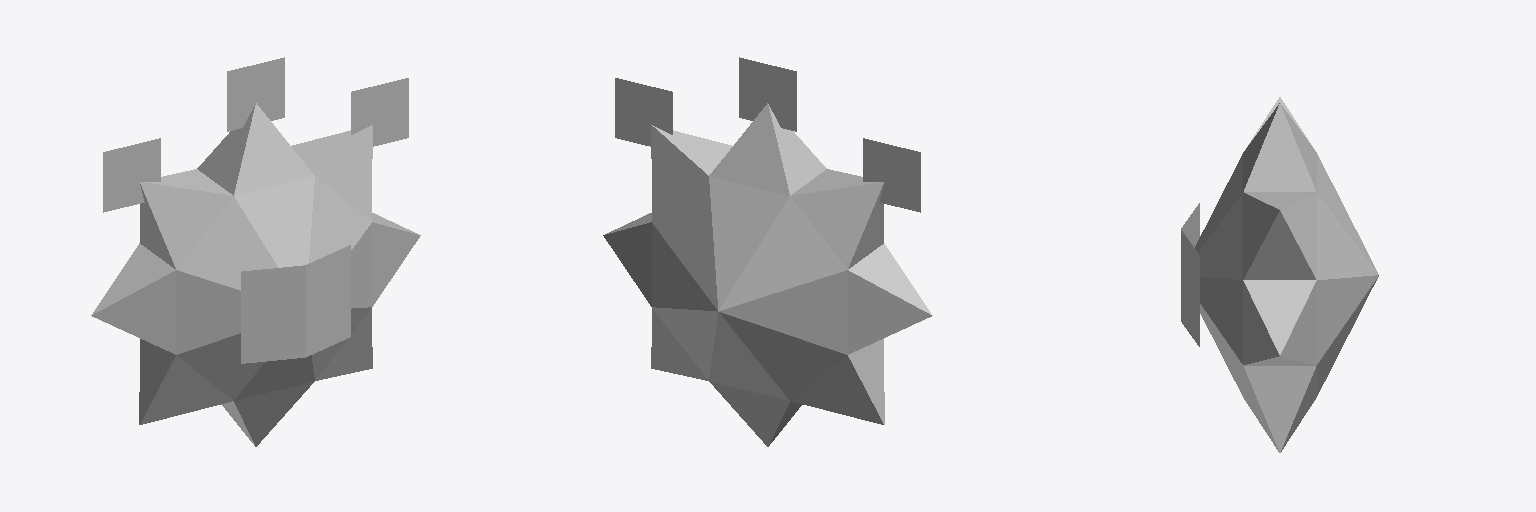
Rendered from Shrine Sprite 64st.obj.
3 views of the same model, side by side, from view 1: azimuth 30°, elevation 25°; view 2: azimuth 150°, elevation 25°; view 3: azimuth 270°, elevation 25° (orthographic).
Parts seen in each view (by area): view 1: Shine_Sprite_Plane; view 2: Shine_Sprite_Plane; view 3: Shine_Sprite_Plane.
Part boxes in pixels (bbox=[...]): Shine_Sprite_Plane: bbox=[91, 57, 420, 446]; Shine_Sprite_Plane: bbox=[603, 57, 932, 446]; Shine_Sprite_Plane: bbox=[1181, 97, 1378, 452].
Bounding box in the file's own units: 3.11 × 3.45 × 1.62.